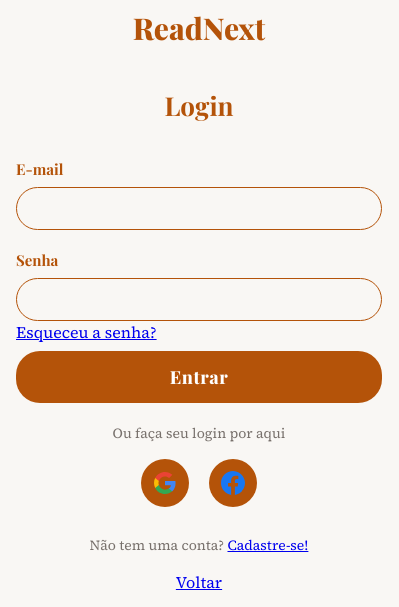
Página de Login — Interações › exibe "Entrando..." durante o carregamento
Type "ana@email.com" into the field. click: [199, 208]
box: [16, 187, 382, 230]
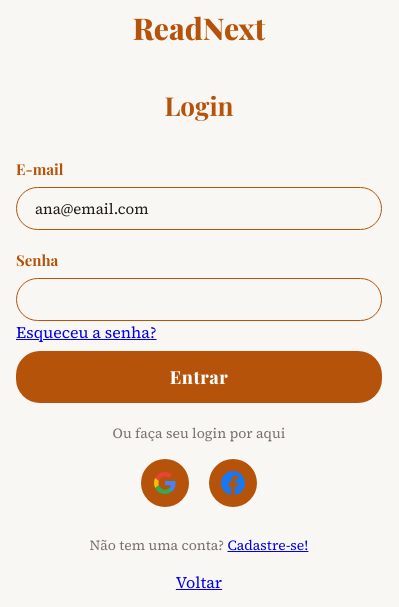
Type "senha123" into the password field. click: [199, 300]
box: [16, 278, 382, 321]
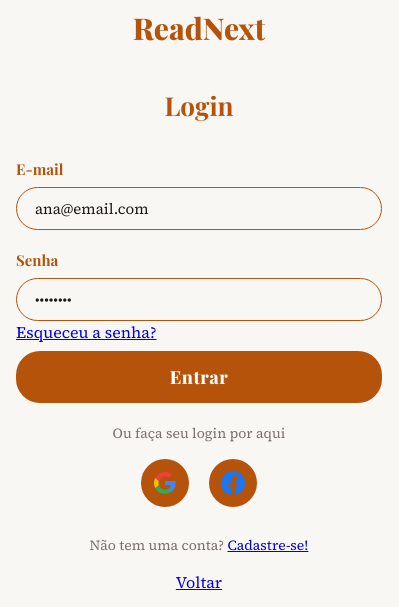
Click the button "Entrar". click: [199, 377]
box: [16, 351, 382, 403]
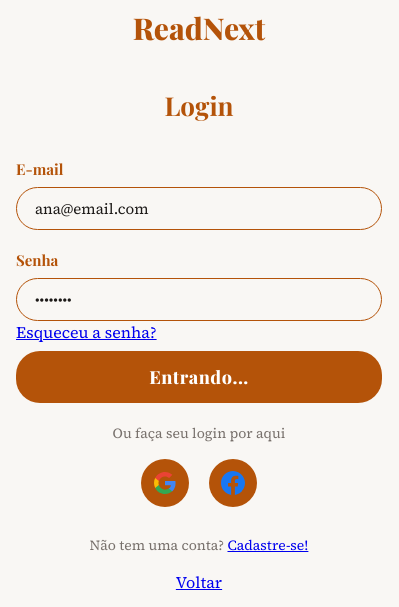
Check: the button "Entrando..." is shown, box [16, 351, 382, 403]
